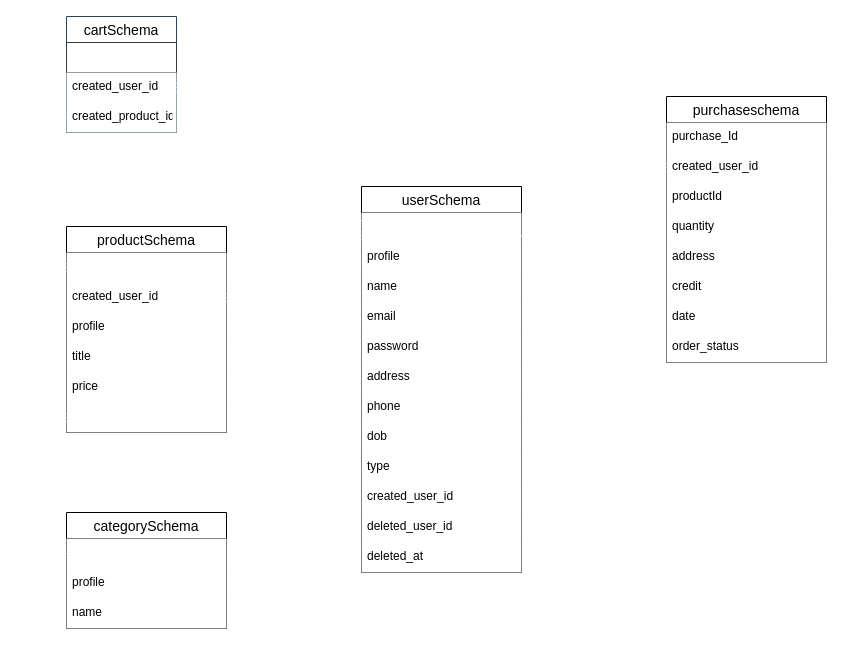
Image size: 843x645. Some labels were removed from this diagram. The centre of each missing label's shape, as x and y in pixels:
"cart_Id" goes at [121,57].
"category_Id" goes at [146,553].
"created_category_id" goes at [146,417].
"product_Id" goes at [146,267].
"user_id" goes at [441,227].
